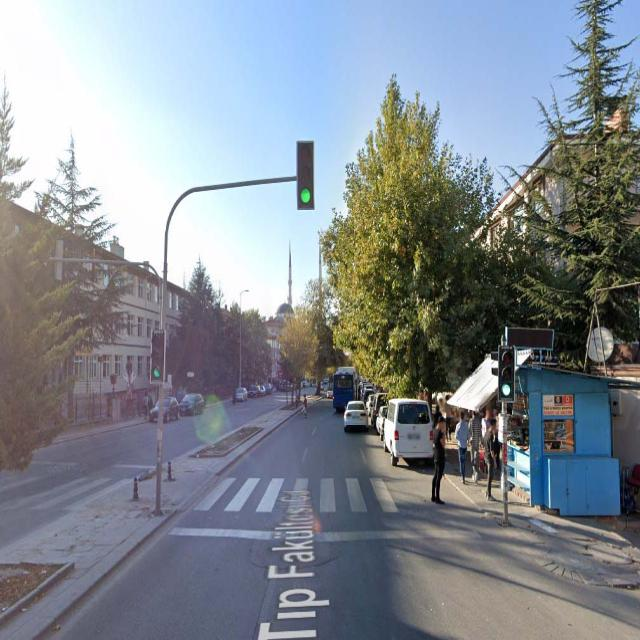yesil: (296, 141, 315, 206), (500, 348, 514, 398), (150, 329, 162, 382)
